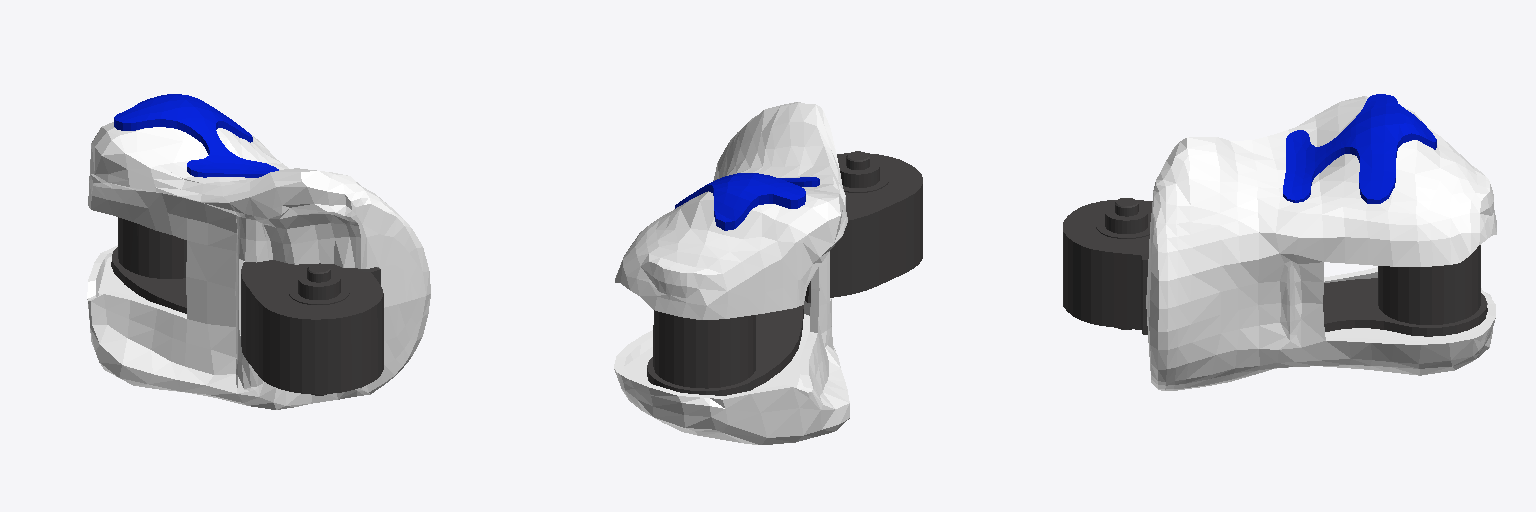
3 renders of one model, left to right at view 1: azimuth 30°, elevation 25°; view 2: azimuth 150°, elevation 25°; view 3: azimuth 270°, elevation 25°, orthographic.
Visible parts, largest first — view 1: LKneePitch_LShinebone; view 2: LKneePitch_LShinebone; view 3: LKneePitch_LShinebone.
Boxes of the visible parts, box(x1,y1,x2,y2) form: LKneePitch_LShinebone: box(87, 94, 430, 409); LKneePitch_LShinebone: box(614, 102, 922, 444); LKneePitch_LShinebone: box(1063, 94, 1496, 390).
Bounding box in the file's own units: 0.8968 × 0.9329 × 1.48.
1 materials, 1 textured.